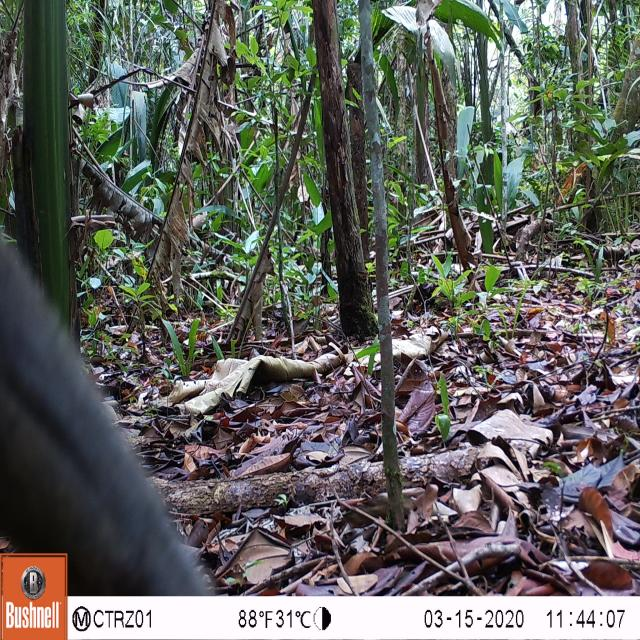Margarita Island Capuchin: (3, 209, 329, 596)
